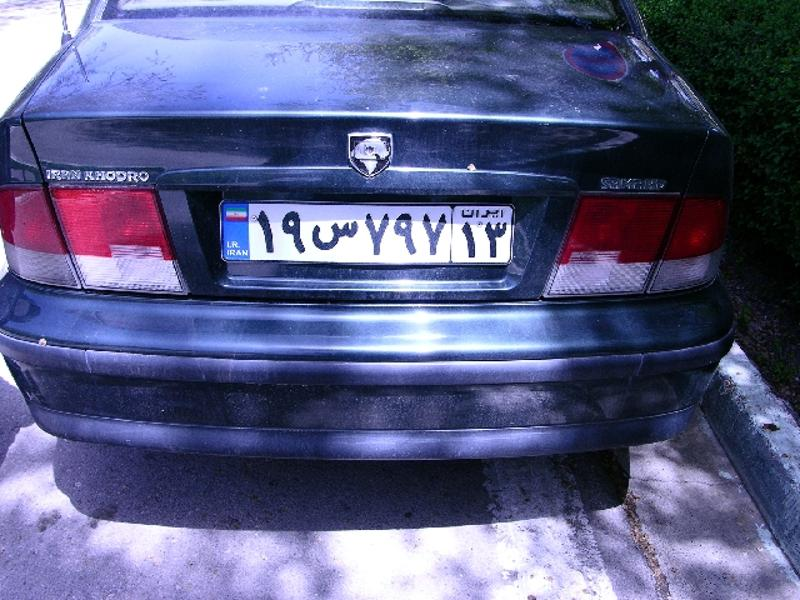Plate: (219, 201, 514, 264)
